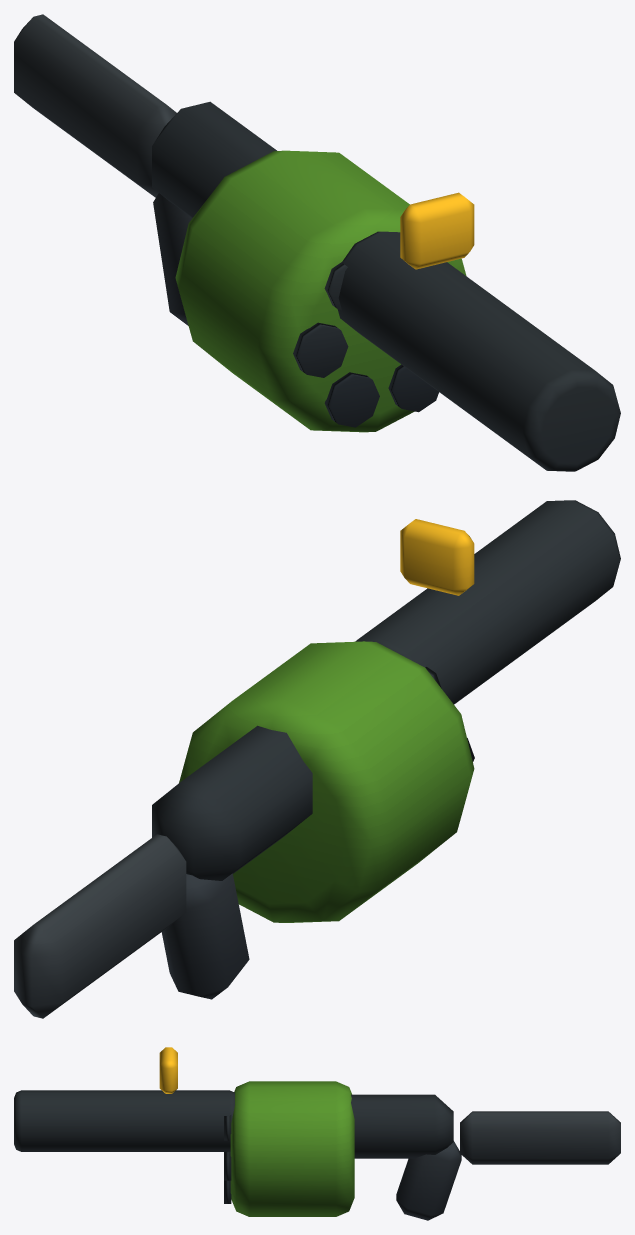
The model's file is weapon_launcher.glb.
3 views of the same model, one above another, from view 1: azimuth 30°, elevation 25°; view 2: azimuth 150°, elevation 25°; view 3: azimuth 270°, elevation 25° (orthographic). The views are drawn at different scales.
Parts seen in each view (by area): view 1: Revolver drum, Wide barrel, Folding stock, Frame.001, Leaf sight, Pistol grip.008, Drum chamber.003, Drum chamber.004, Drum chamber.005; view 2: Revolver drum, Wide barrel, Folding stock, Frame.001, Pistol grip.008, Leaf sight; view 3: Revolver drum, Wide barrel, Folding stock, Frame.001, Pistol grip.008, Leaf sight.
Boxes of the visible parts, left/top/right/bottom form: Revolver drum: left=175, top=150, right=466, bottom=432; Wide barrel: left=337, top=231, right=620, bottom=471; Folding stock: left=14, top=14, right=176, bottom=197; Frame.001: left=152, top=101, right=276, bottom=218; Leaf sight: left=400, top=192, right=474, bottom=269; Pistol grip.008: left=153, top=193, right=191, bottom=325; Drum chamber.003: left=293, top=322, right=348, bottom=377; Drum chamber.004: left=324, top=372, right=379, bottom=427; Drum chamber.005: left=388, top=364, right=438, bottom=412; Revolver drum: left=179, top=641, right=474, bottom=922; Wide barrel: left=355, top=500, right=620, bottom=704; Folding stock: left=14, top=834, right=186, bottom=1018; Frame.001: left=152, top=725, right=312, bottom=880; Pistol grip.008: left=161, top=873, right=249, bottom=999; Leaf sight: left=400, top=519, right=474, bottom=595; Revolver drum: left=230, top=1081, right=354, bottom=1216; Wide barrel: left=14, top=1090, right=234, bottom=1151; Folding stock: left=460, top=1111, right=620, bottom=1164; Frame.001: left=351, top=1094, right=453, bottom=1158; Pistol grip.008: left=396, top=1141, right=461, bottom=1220; Leaf sight: left=159, top=1047, right=177, bottom=1093.
Bounding box in the file's own units: 0.22 × 0.2928 × 0.98.
4 materials, 4 textured.
